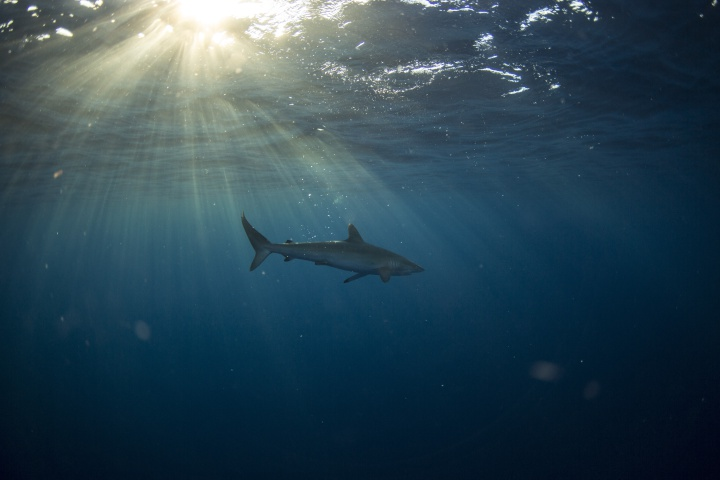Sedoso: (231, 211, 429, 289)
